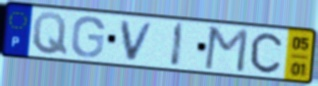C: (249, 31, 284, 75)
G: (69, 15, 107, 59)
I: (168, 20, 186, 69)
M: (202, 25, 251, 74)
Q: (31, 11, 69, 57)
V: (118, 19, 157, 63)
